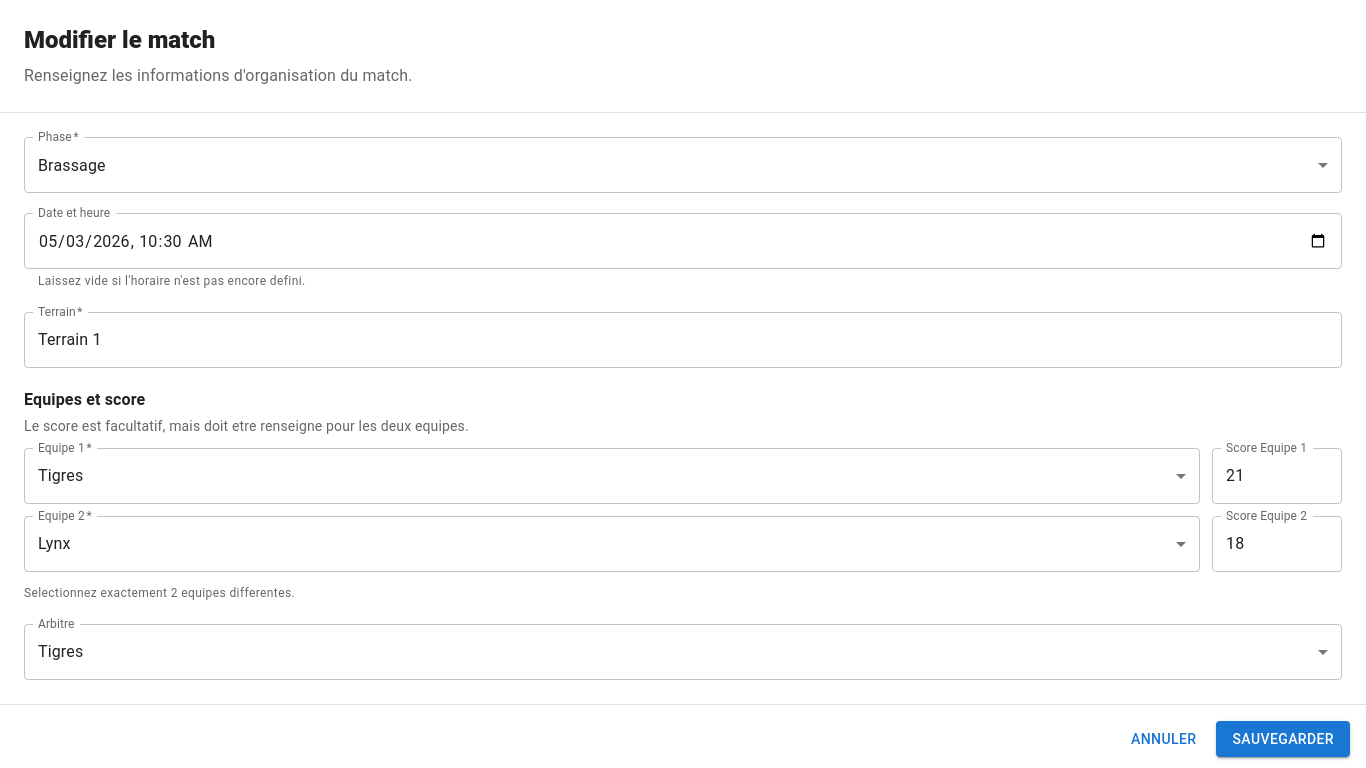
it: ManageGameForm › should display phase choices in hierarchy order
The image size is (1366, 768).
Step 1. Press the mouse on the dropdown named "Phase" → (72, 165), box [38,156,106,174]
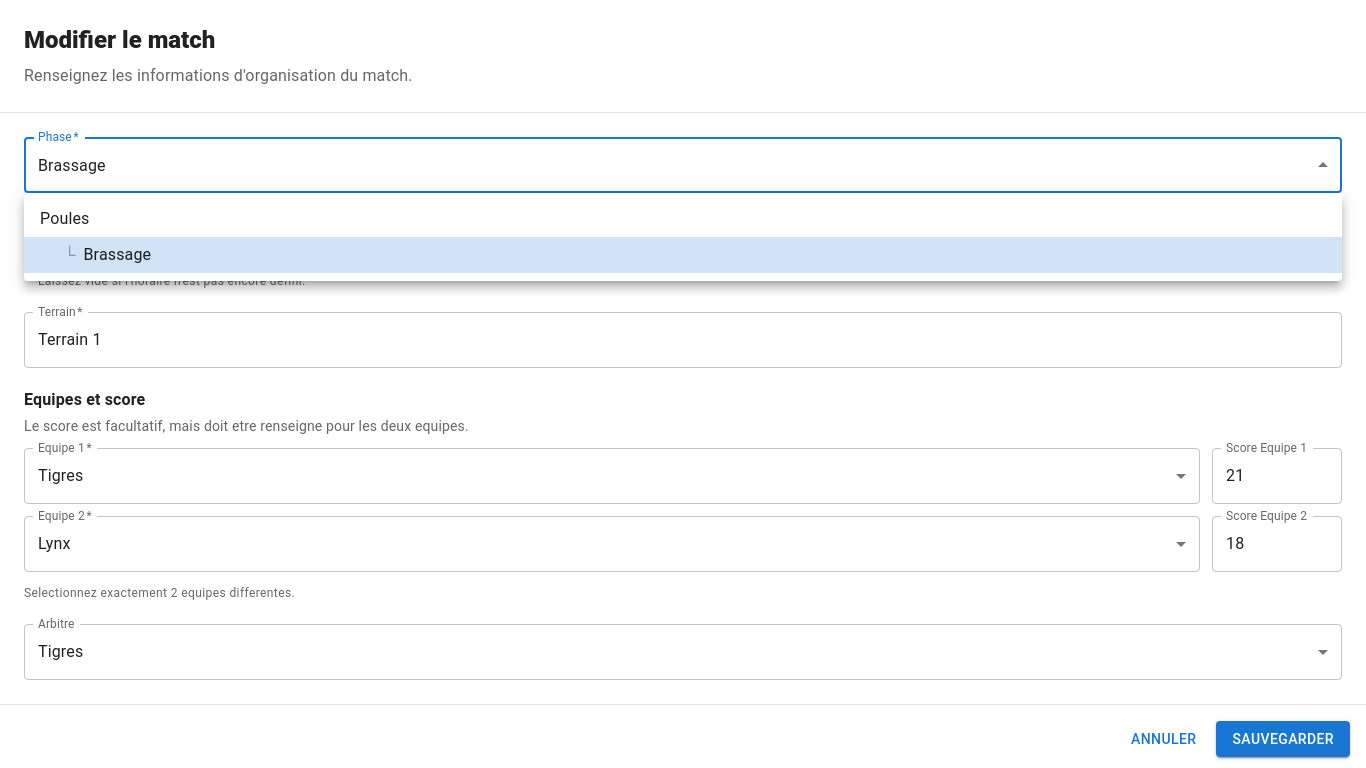
Expected: the options read "Poules", "└Brassage", in this order, [40,209,90,228]; [24,237,1342,273]
Expected: the option "└ Brassage" is shown, [24,237,1342,273]
